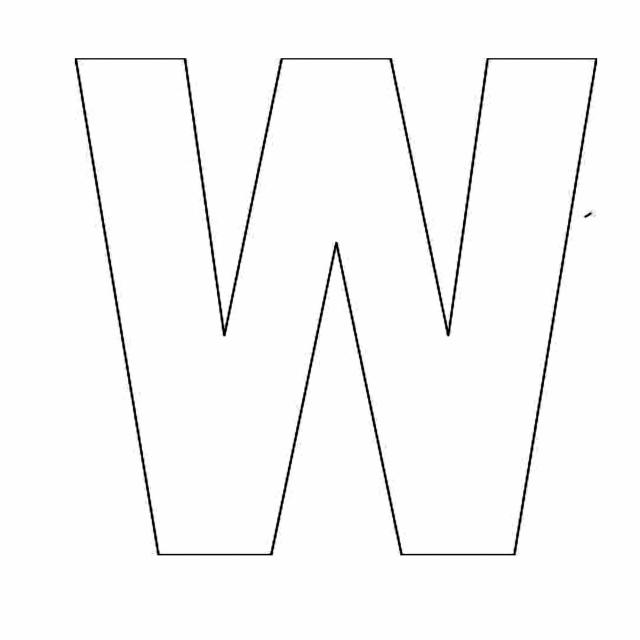W: (36, 34, 598, 600)
